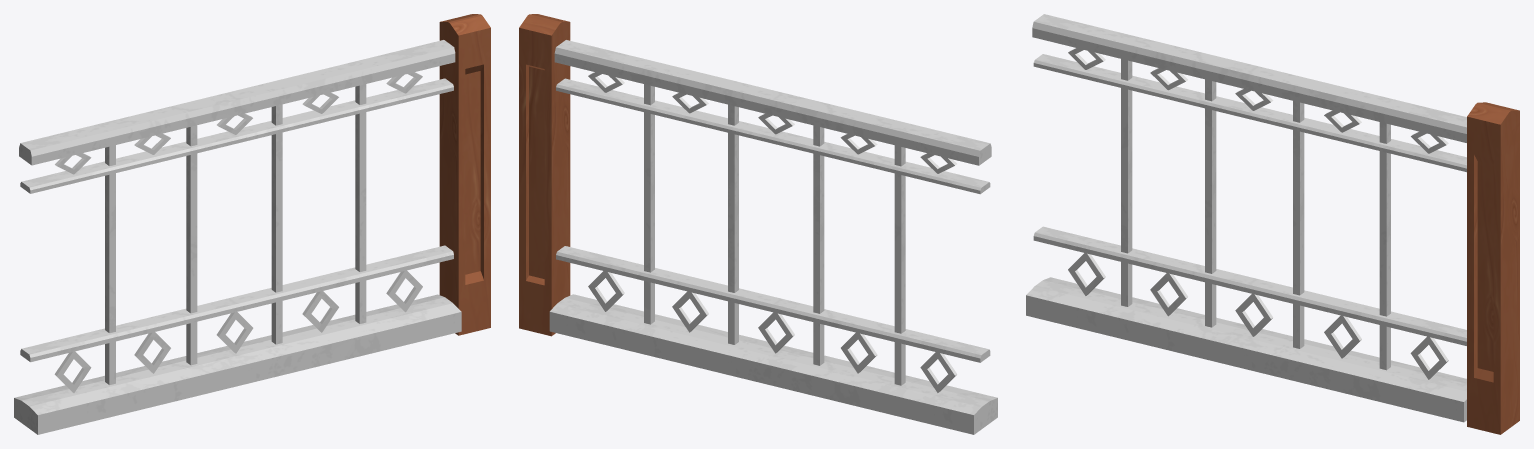
Rendered from StationFrame_F_001.fbx.
The picture shows the model from 3 angles, left to right: view 1: azimuth 30°, elevation 25°; view 2: azimuth 150°, elevation 25°; view 3: azimuth 330°, elevation 25°; orthographic projection. The views are drawn at different scales.
Parts seen in each view (by area): view 1: StationFrame_F_001; view 2: StationFrame_F_001; view 3: StationFrame_F_001.
Boxes of the visible parts, x1,y1,x2,y2 form: StationFrame_F_001: (14, 14, 490, 434); StationFrame_F_001: (519, 14, 997, 434); StationFrame_F_001: (1026, 14, 1519, 434).
Size of the model in its own units: 124 by 79.84 by 11.24.
3 materials, 3 textured.
